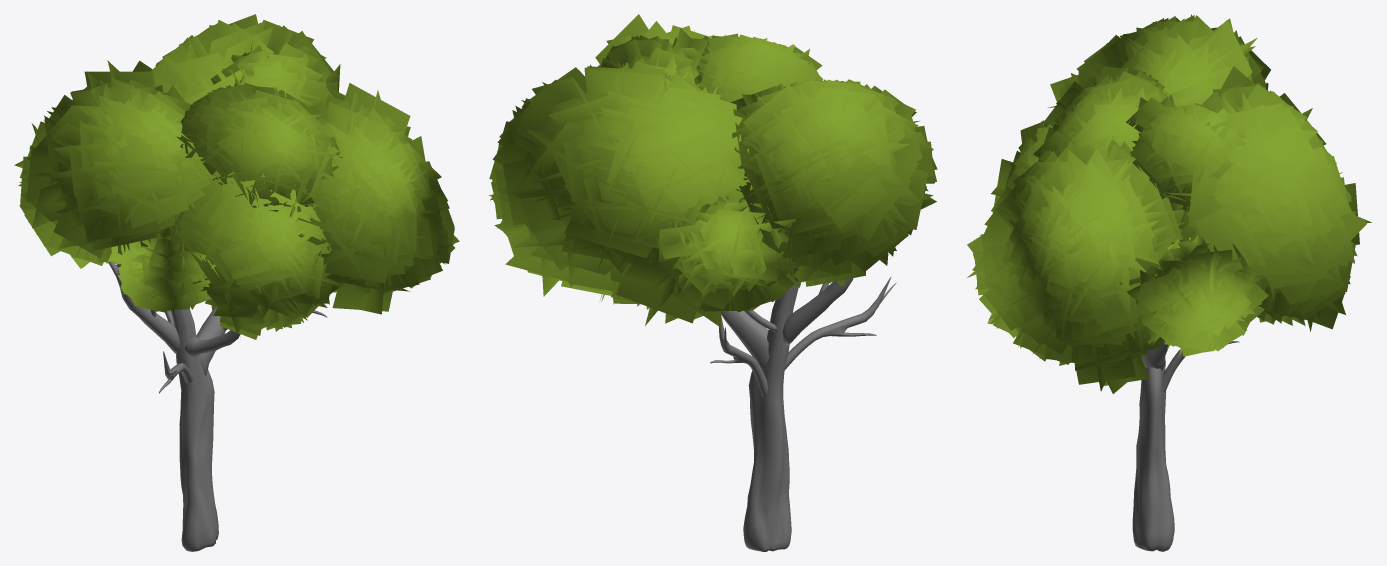
The model's file is SM_tree_broadleaf_03.fbx.
3 views of the same model, side by side, from view 1: azimuth 30°, elevation 25°; view 2: azimuth 150°, elevation 25°; view 3: azimuth 270°, elevation 25° (orthographic). The views are drawn at different scales.
Visible parts, largest first — view 1: Object3427658; view 2: Object3427658; view 3: Object3427658.
Part boxes in pixels (x1=…): Object3427658: x1=14, y1=14, x2=459, y2=551; Object3427658: x1=489, y1=14, x2=937, y2=551; Object3427658: x1=967, y1=14, x2=1371, y2=551.
Bounding box in the file's own units: 212 × 248 × 183.
